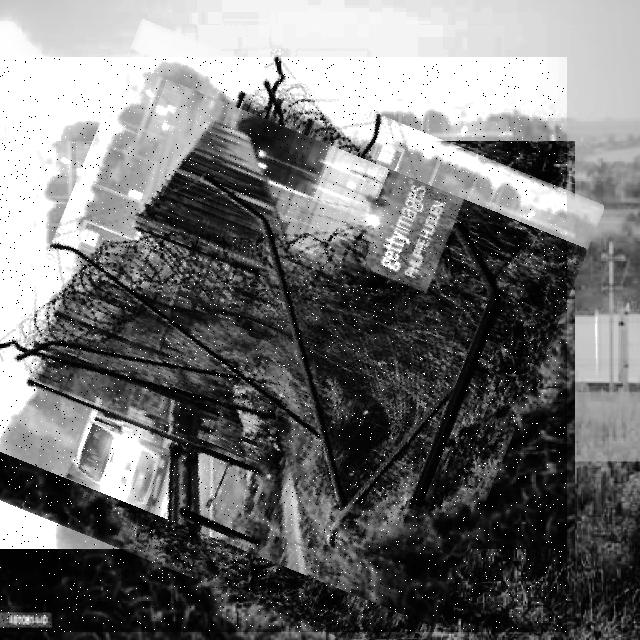anomaly-fence: (0, 57, 567, 632)
